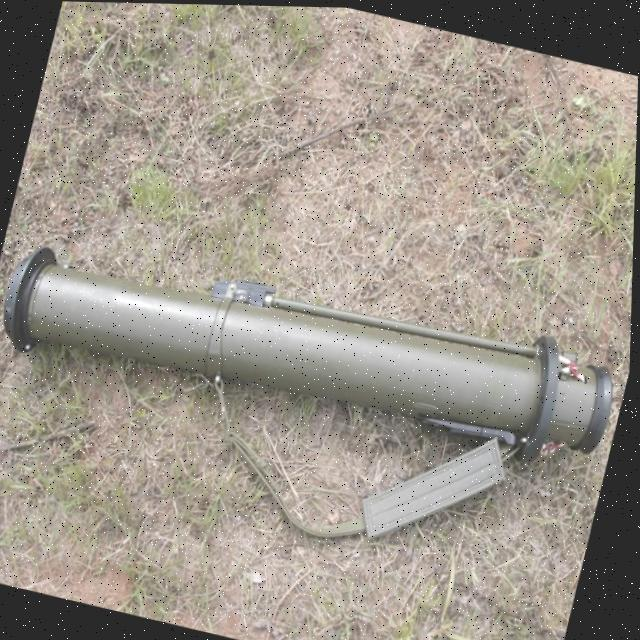rocket: (0, 183, 633, 607)
